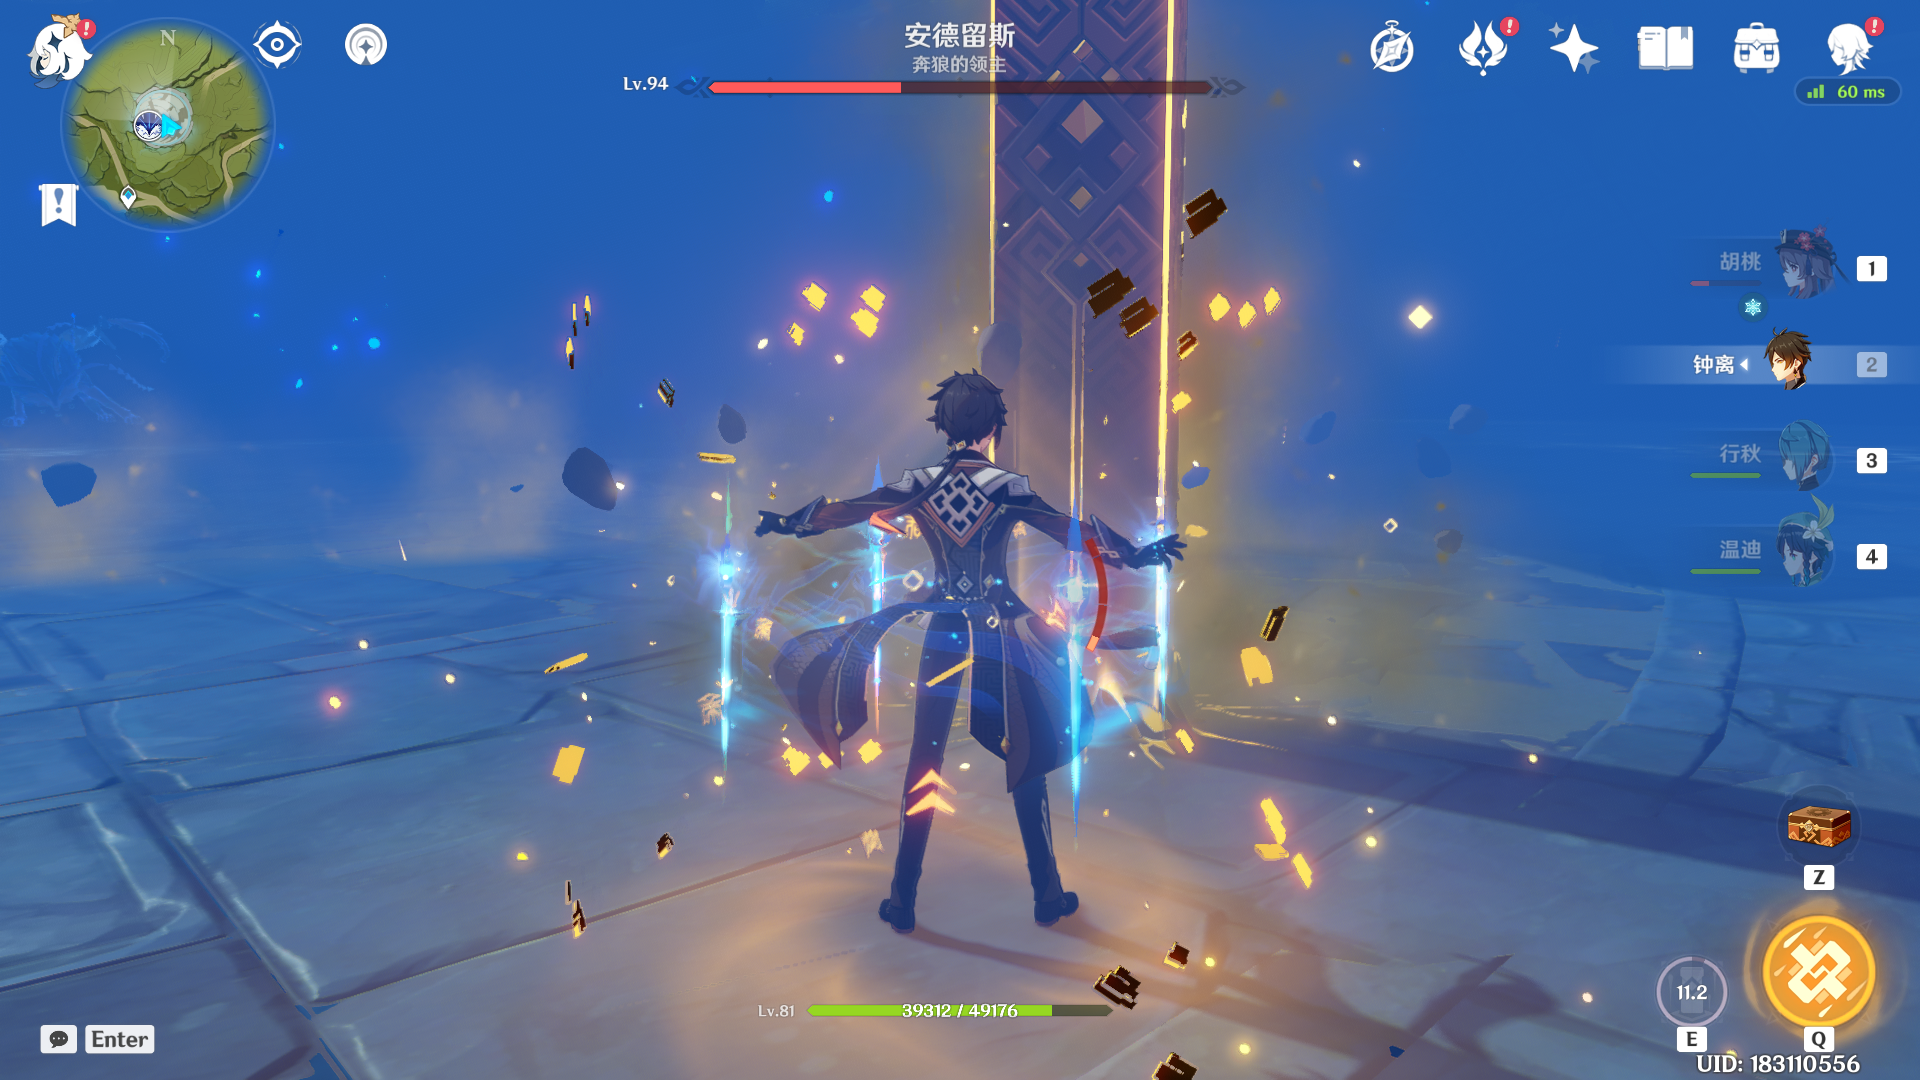character: (700, 324, 1226, 1019)
